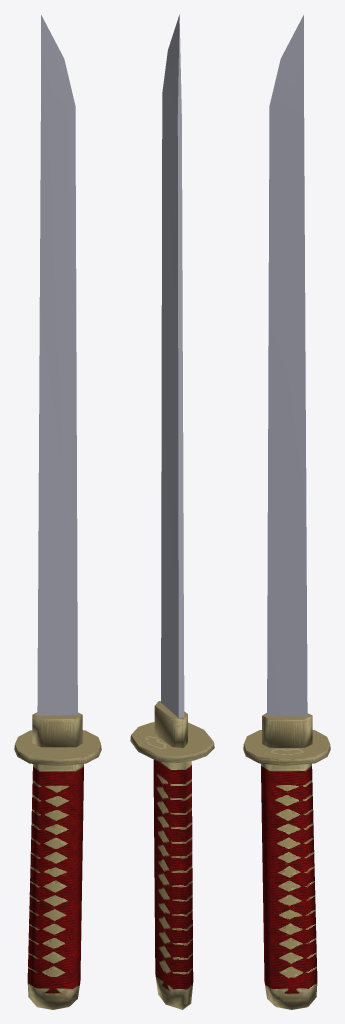
Rendered from Melee_Prop_Toilet_Brush_Main_(000090).glb.
3 renders of one model, left to right at view 1: azimuth 90°, elevation 25°; view 2: azimuth 210°, elevation 25°; view 3: azimuth 270°, elevation 25°, orthographic.
Parts seen in each view (by area): view 1: wuqi; view 2: wuqi; view 3: wuqi.
Boxes of the visible parts, <box> form: wuqi: <box>14,15,101,1009</box>; wuqi: <box>130,14,214,1009</box>; wuqi: <box>243,15,330,1009</box>.
Bounding box in the file's own units: 0.1113 × 1.6 × 0.1274.
Materials: 1 (1 with a texture image).
